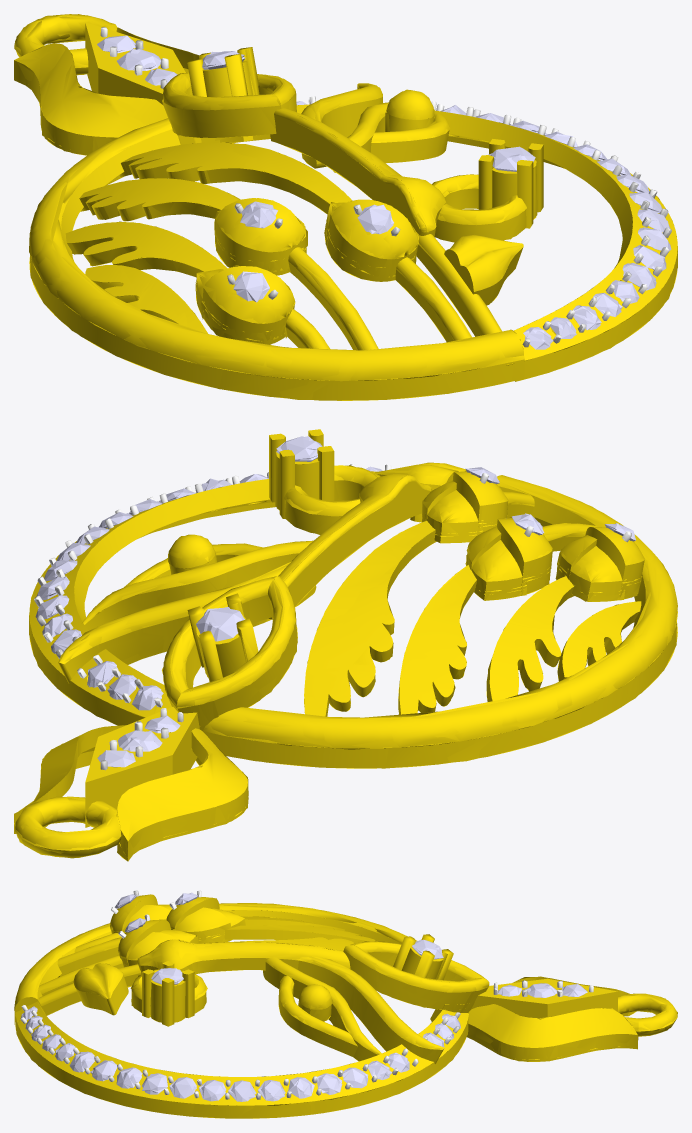
File: DPN-D000659845.glb
3 renders of one model, top to bottom at view 1: azimuth 30°, elevation 25°; view 2: azimuth 150°, elevation 25°; view 3: azimuth 270°, elevation 25°, orthographic. The views are drawn at different scales.
Parts seen in each view (by area): view 1: highPolyMesh, lowPolyMesh; view 2: highPolyMesh, lowPolyMesh; view 3: highPolyMesh, lowPolyMesh.
Boxes of the visible parts, x1=… form: highPolyMesh: x1=14, y1=14, x2=677, y2=400; lowPolyMesh: x1=14, y1=14, x2=677, y2=400; highPolyMesh: x1=14, y1=429, x2=677, y2=861; lowPolyMesh: x1=14, y1=429, x2=677, y2=861; highPolyMesh: x1=15, y1=890, x2=677, y2=1118; lowPolyMesh: x1=14, y1=891, x2=677, y2=1118.
Bounding box in the file's own units: 0.0204 × 0.00487 × 0.0298.
